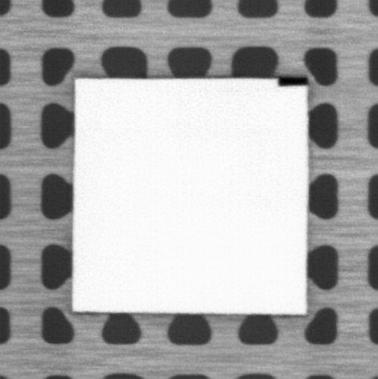DIE_BROKEN: (275, 74, 312, 88)
